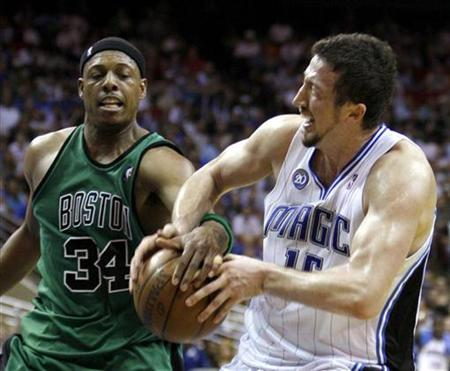basketball: (133, 246, 223, 341)
